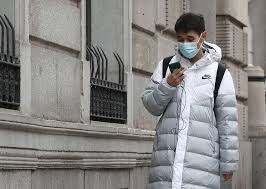with_mask: (173, 22, 209, 63)
